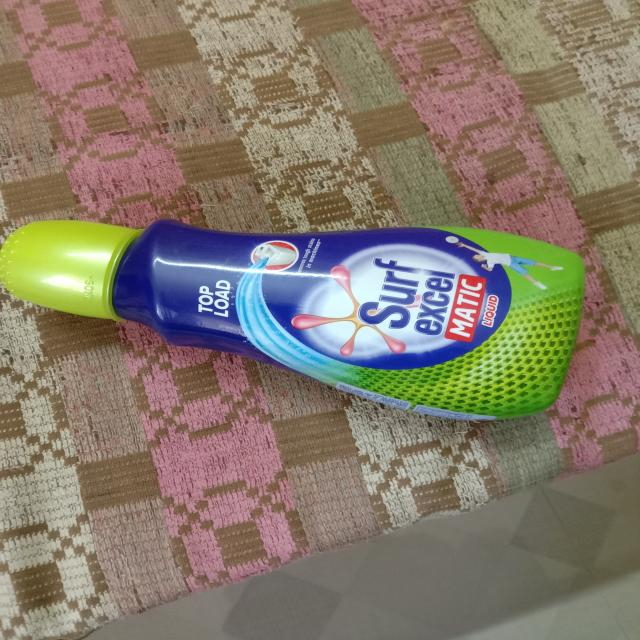detergent: (0, 214, 587, 433)
